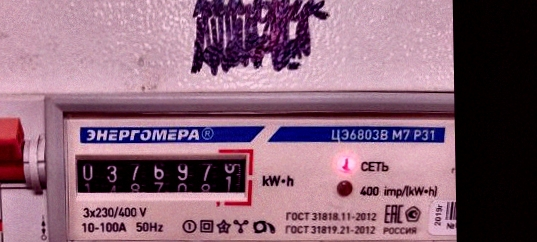0: (81, 160, 94, 181)
1: (223, 173, 234, 191)
3: (105, 162, 118, 182)
6: (152, 158, 165, 179)
7: (200, 159, 212, 182), (128, 160, 141, 181)
9: (176, 160, 188, 181)
screen: (67, 143, 258, 209)
